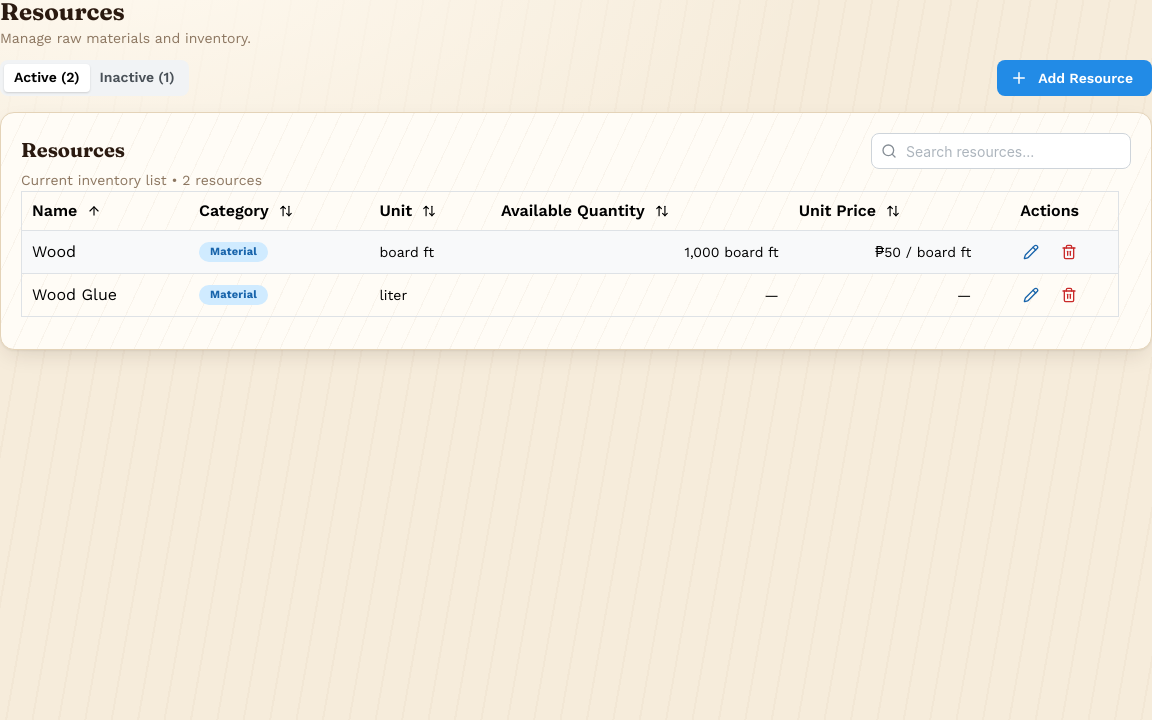
Scenario: ResourcesPage resource-update notification › shows the re-optimization warning when available_quantity changes
Expected: the text "Wood" is shown, [32,240,76,265]
Click the button named "Edit Wood" at (1031, 252), box [1017,238,1045,266]
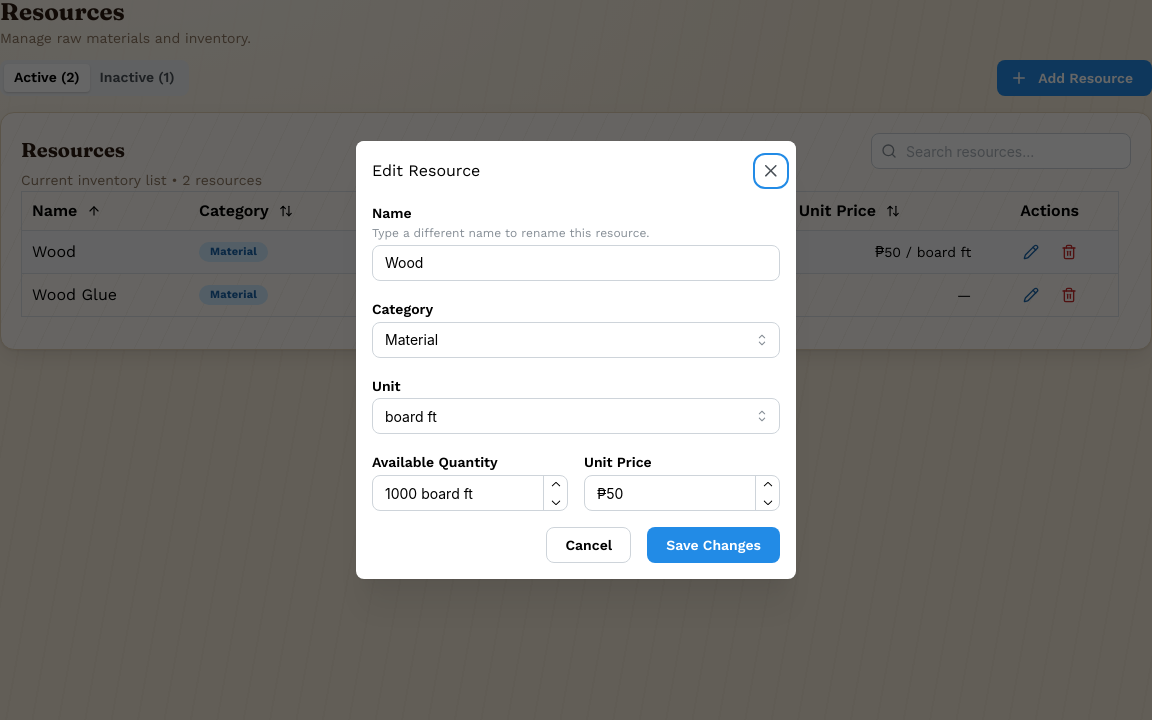
Replace the text in the field labelled "Available Quantity" with "700" at (470, 493), box [372,475,568,511]
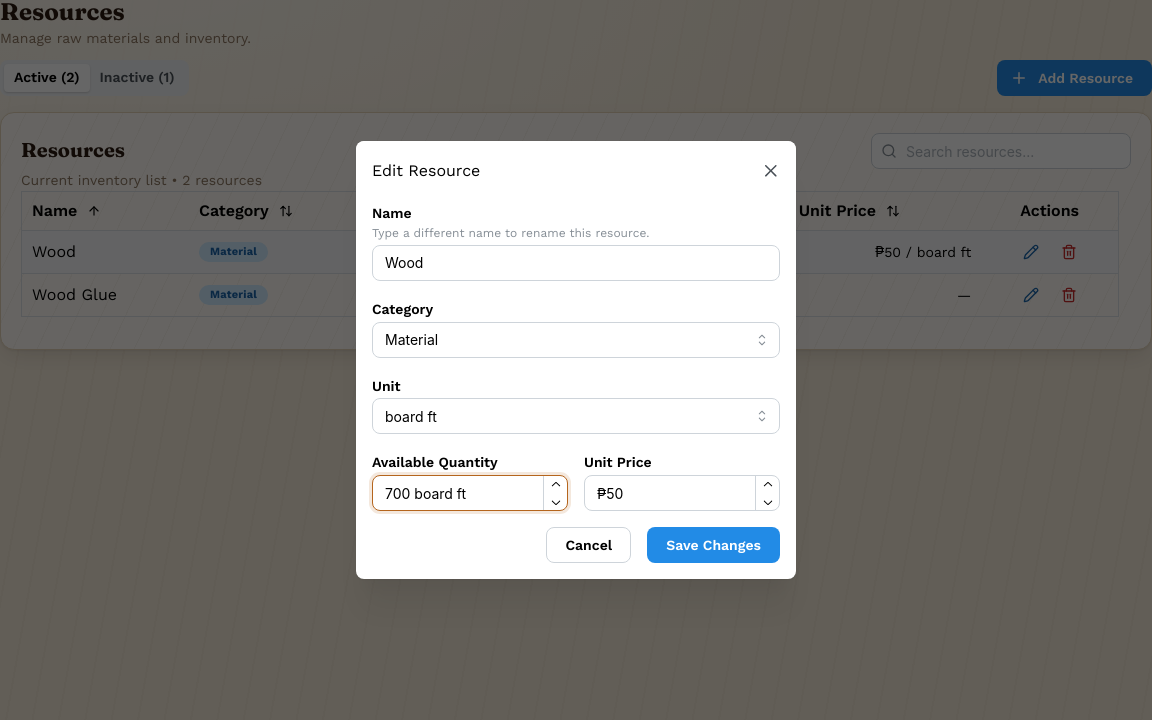
Click the button "Save Changes" at (714, 545), box [647,527,780,563]
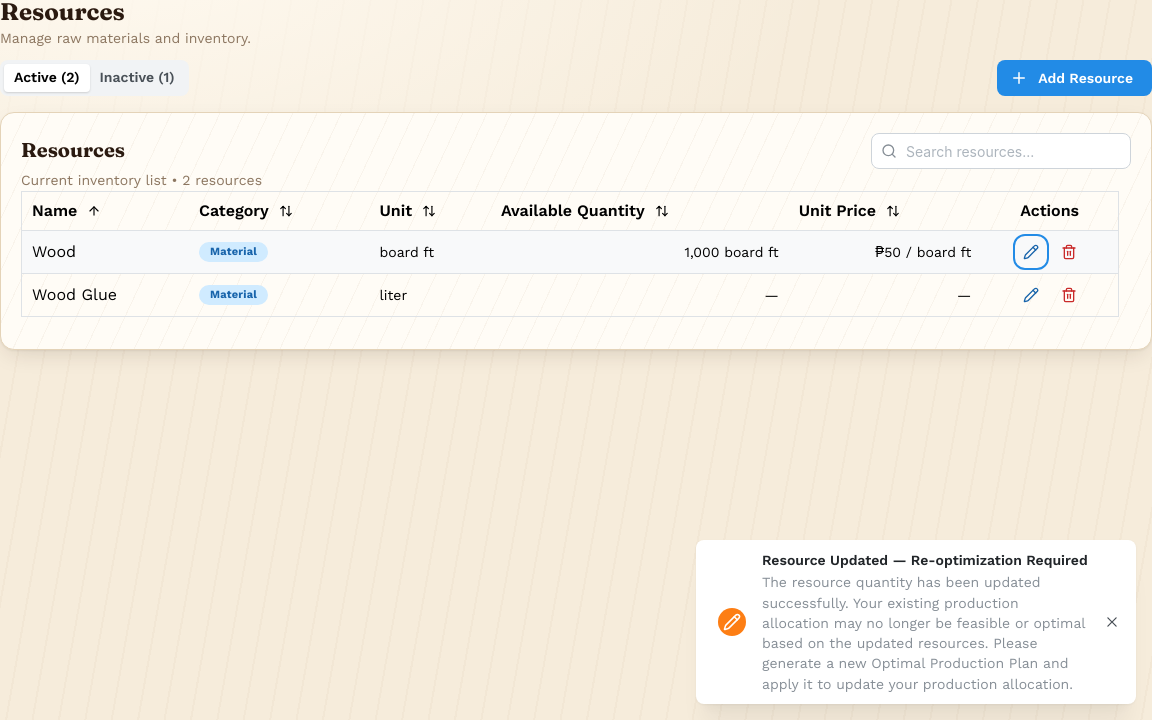
Expected: the text "Resource Updated — Re-optimization Required" is shown, [762,550,1088,570]
